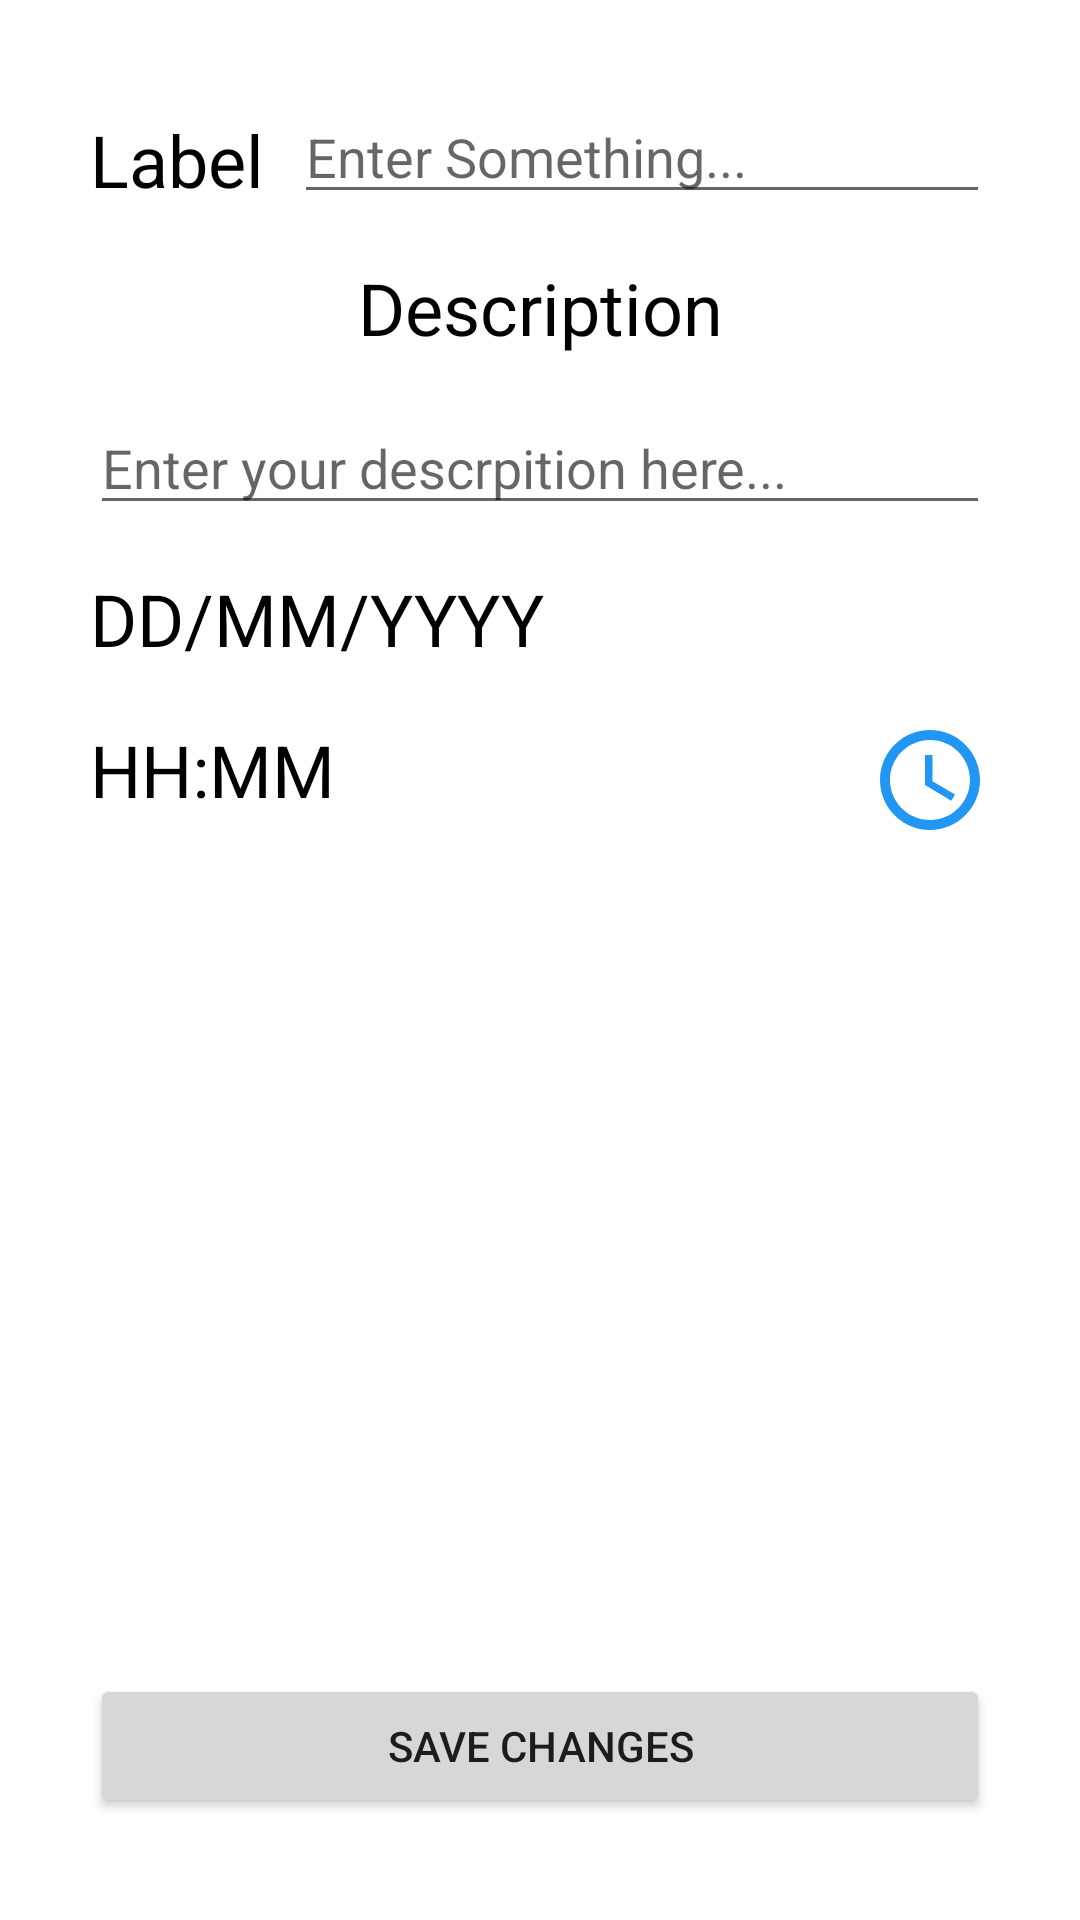

Icons on this 1080 x 1920 Android screen, each with its box as region(x1, y1, x2, y2):
timer: region(880, 730, 980, 830)
